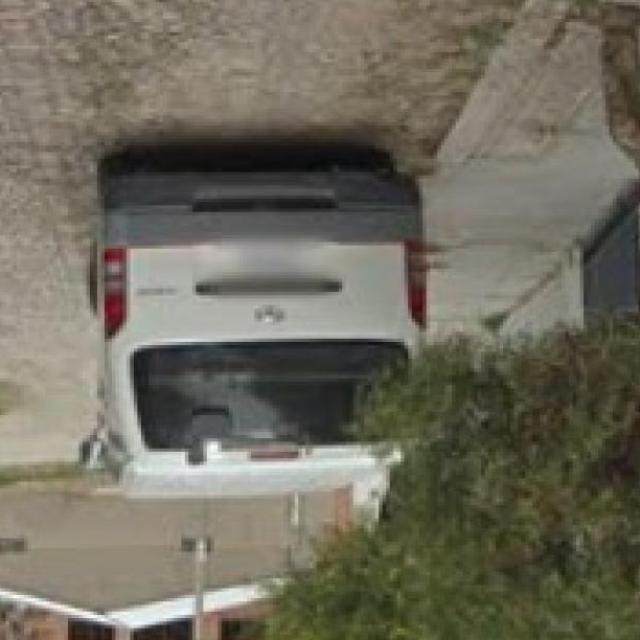car: (70, 130, 442, 496)
